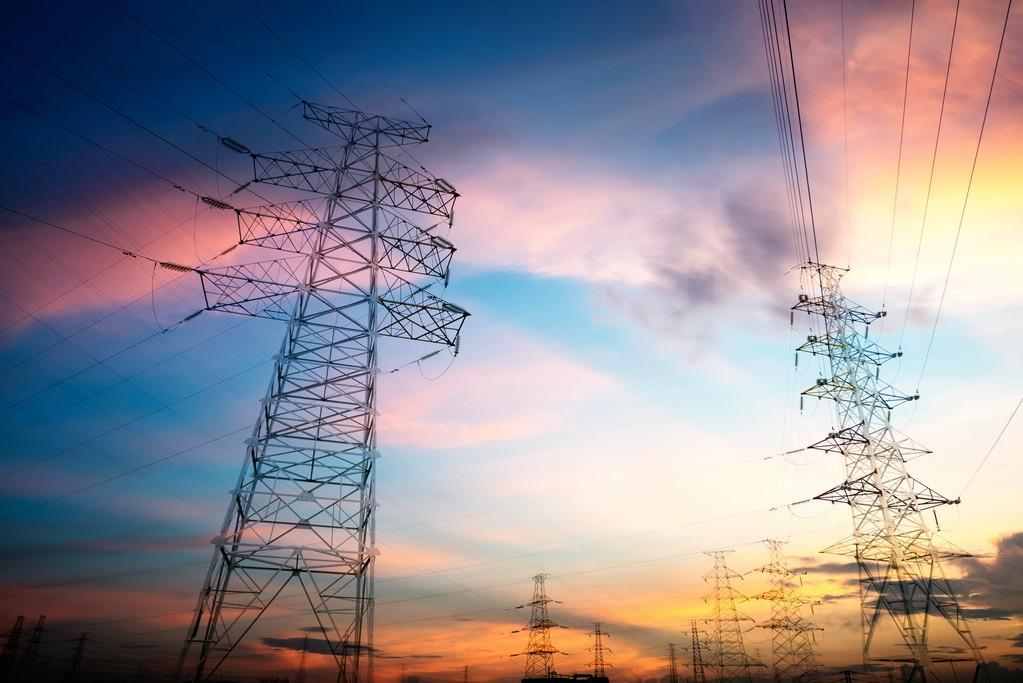power_tower: (156, 98, 486, 680), (793, 255, 998, 679), (690, 543, 758, 676), (508, 562, 569, 680), (582, 619, 625, 683)
